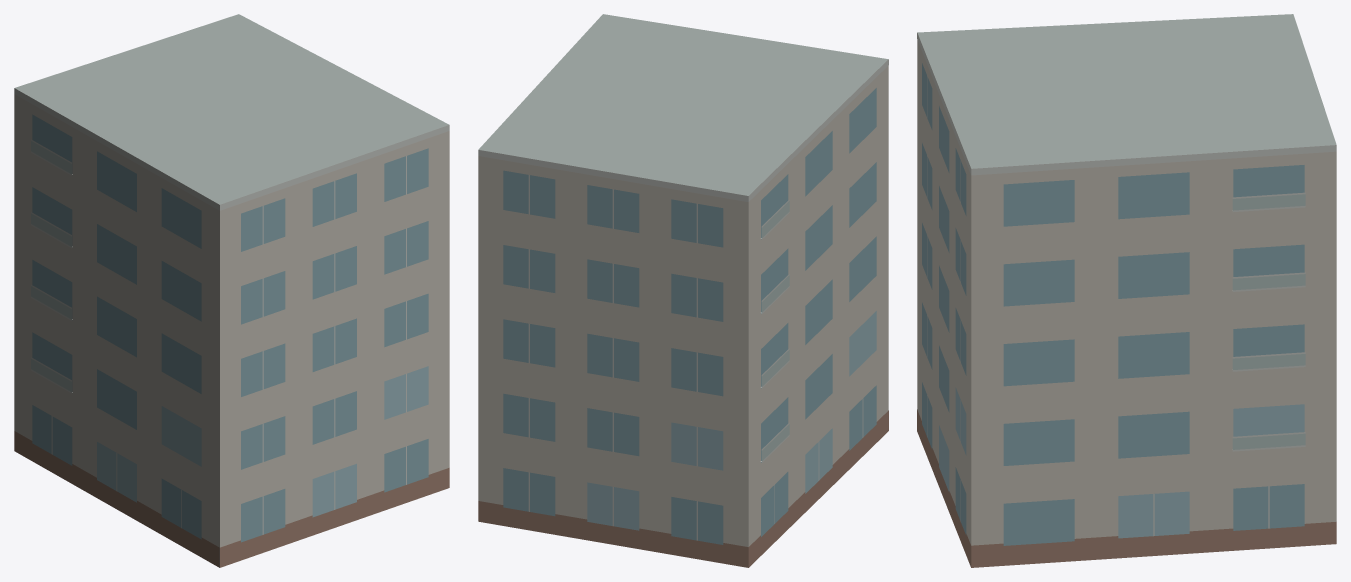
File: survey-upis-32966112.glb
3 views of the same model, side by side, from view 1: azimuth 30°, elevation 25°; view 2: azimuth 150°, elevation 25°; view 3: azimuth 270°, elevation 25° (orthographic). The views are drawn at different scales.
Parts seen in each view (by area): view 1: survey-upis-32966112.tmp; view 2: survey-upis-32966112.tmp; view 3: survey-upis-32966112.tmp.
Part boxes in pixels (x1,y1,x2,y2): survey-upis-32966112.tmp: (14, 14, 449, 567); survey-upis-32966112.tmp: (478, 14, 888, 567); survey-upis-32966112.tmp: (917, 14, 1336, 567).
Bounding box in the file's own units: 12.25 × 14.7 × 14.01.
